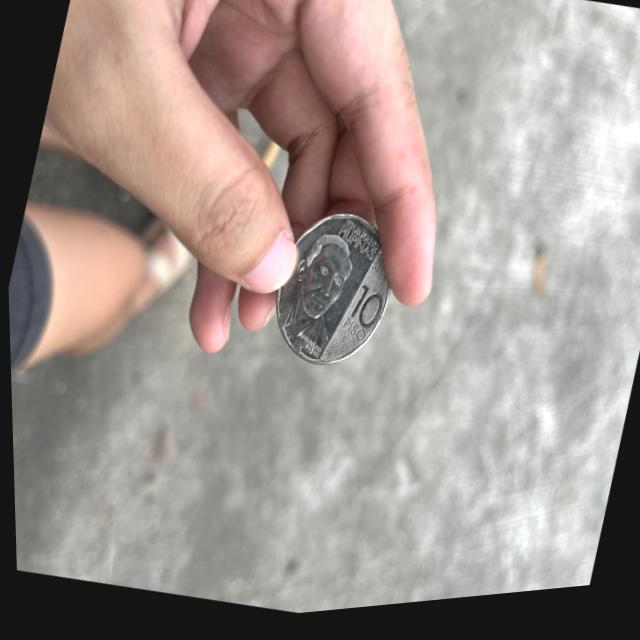10_New_Front: (333, 281, 390, 350)
